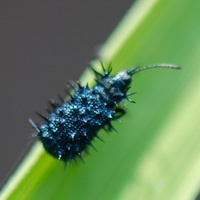insect: (29, 62, 180, 162)
